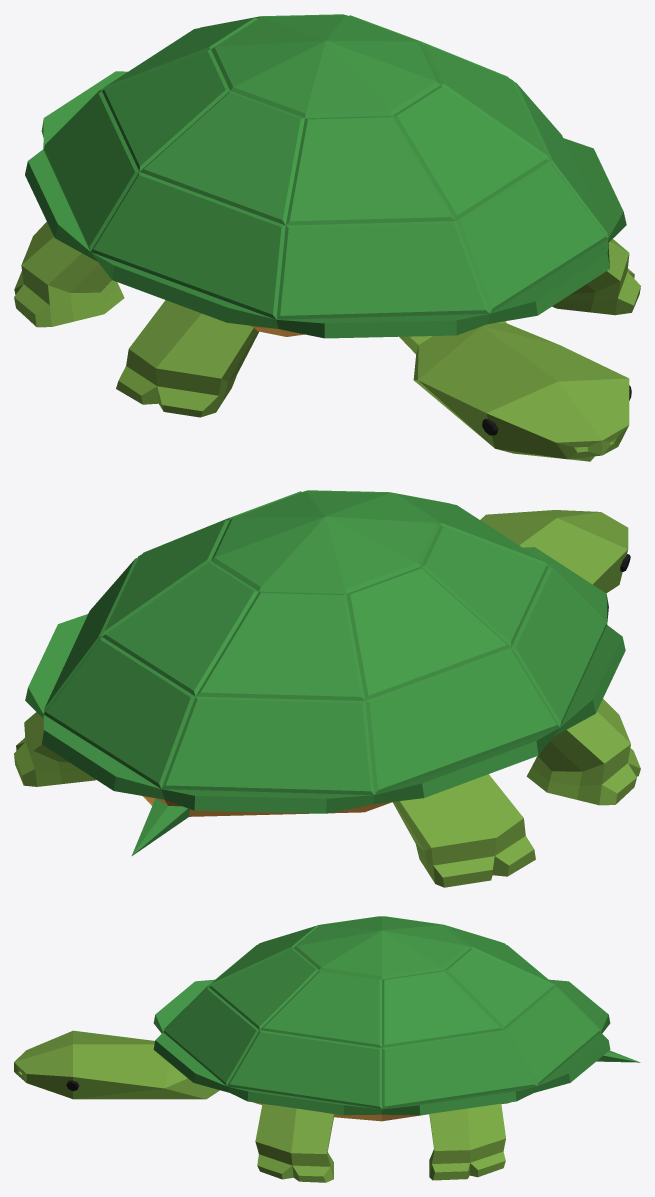
File: turtle.glb
3 views of the same model, one above another, from view 1: azimuth 30°, elevation 25°; view 2: azimuth 150°, elevation 25°; view 3: azimuth 270°, elevation 25° (orthographic). The views are drawn at different scales.
Visible parts, largest first — view 1: char; view 2: char; view 3: char.
Boxes of the visible parts, x1=… form: char: x1=14, y1=14, x2=640, y2=461; char: x1=14, y1=490, x2=640, y2=887; char: x1=14, y1=916, x2=640, y2=1182.
Bounding box in the file's own units: 8.94 × 4.4 × 14.6.
